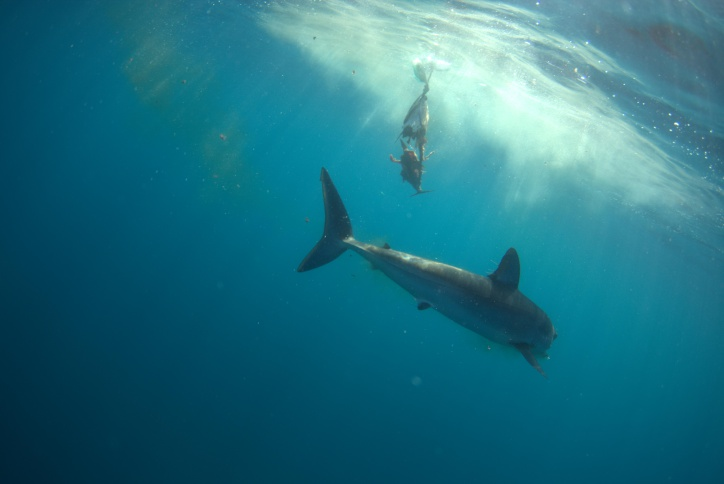Mako: (277, 148, 605, 388)
